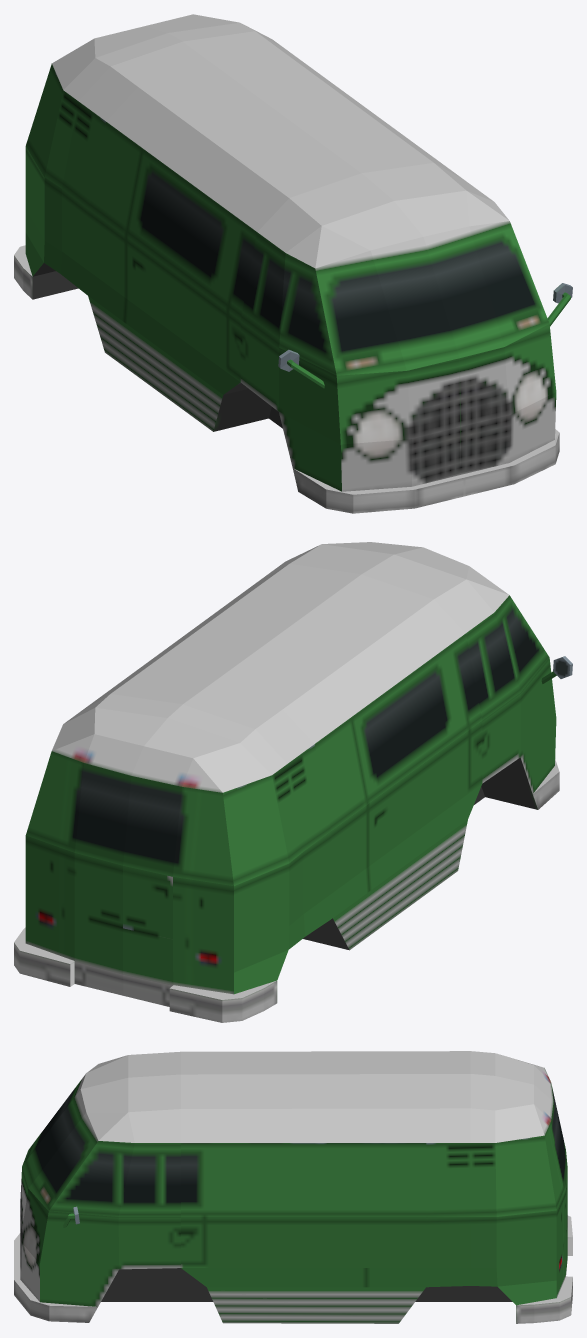
Rendered from classic_van.obj.
3 renders of one model, top to bottom at view 1: azimuth 30°, elevation 25°; view 2: azimuth 150°, elevation 25°; view 3: azimuth 270°, elevation 25°, orthographic. The views are drawn at different scales.
Visible parts, largest first — view 1: classic_van; view 2: classic_van; view 3: classic_van.
Boxes of the visible parts, box(x1,y1,x2,y2) form: classic_van: box(14, 14, 572, 513); classic_van: box(14, 542, 572, 1022); classic_van: box(14, 1051, 572, 1323).
Bounding box in the file's own units: 2.08 × 1.69 × 4.25.
1 material, 1 textured.
